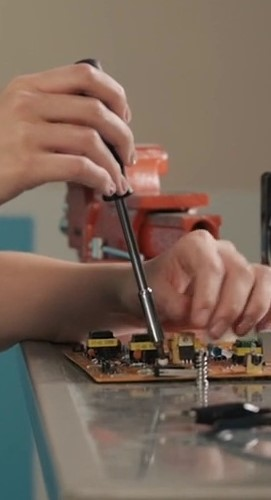screwdriver: (67, 55, 166, 353)
